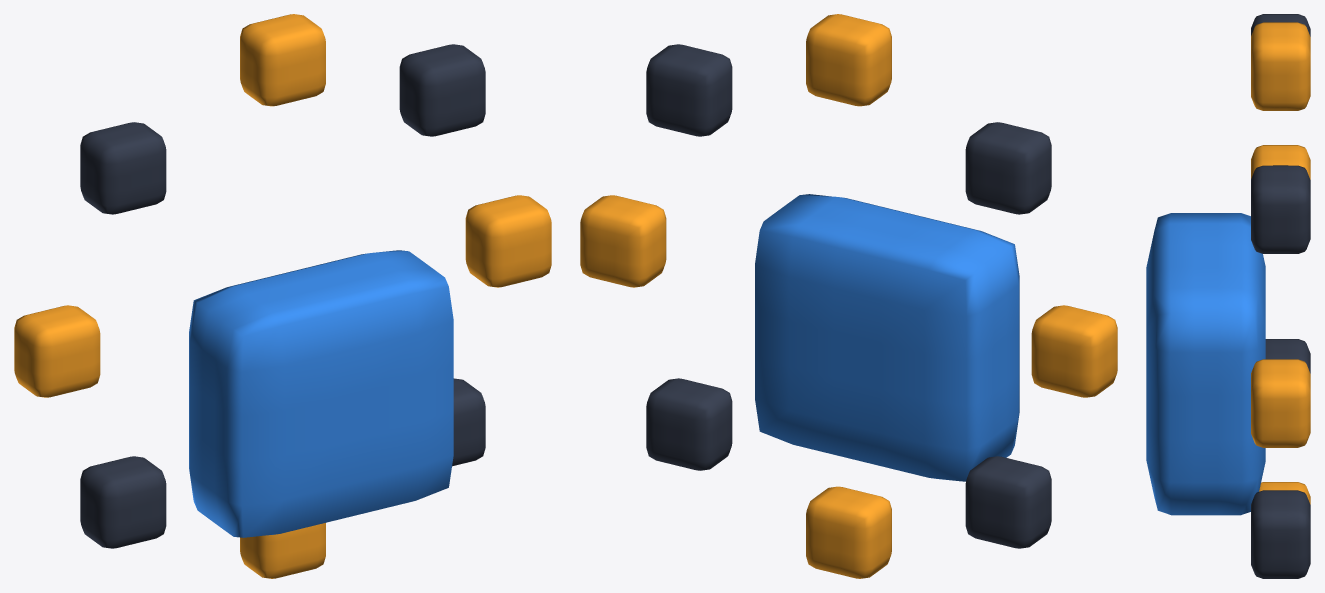
The model's file is core_halo.obj.
3 renders of one model, left to right at view 1: azimuth 30°, elevation 25°; view 2: azimuth 150°, elevation 25°; view 3: azimuth 270°, elevation 25°, orthographic. The views are drawn at different scales.
Size of the model in its own units: 0.78 by 0.78 by 0.22.
